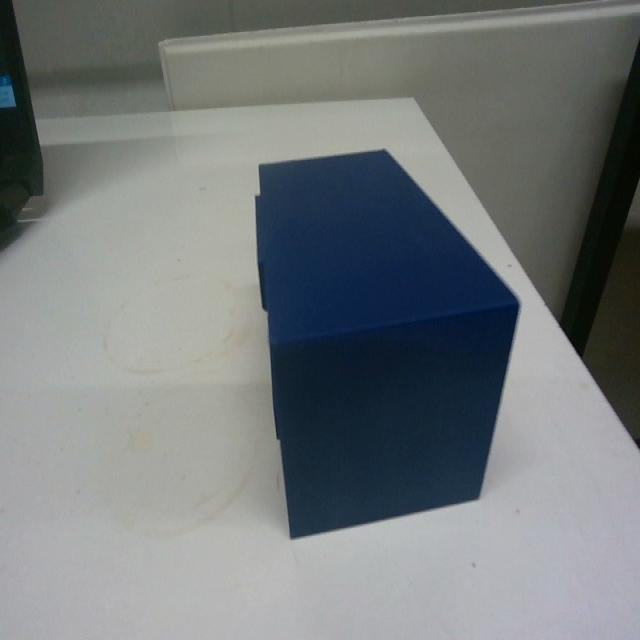Blue Cuboid: (250, 144, 522, 540)
